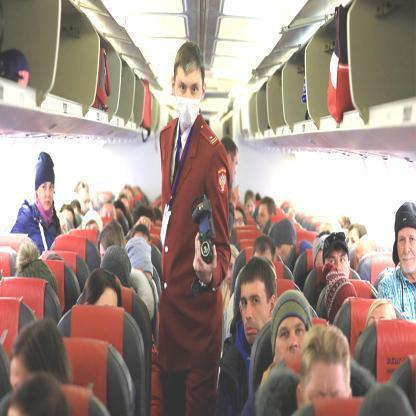with_mask: (171, 46, 210, 130)
without_mask: (235, 265, 281, 345), (269, 286, 312, 368), (33, 149, 60, 213), (321, 228, 350, 284), (394, 203, 415, 273), (218, 132, 243, 180), (256, 194, 274, 230)
